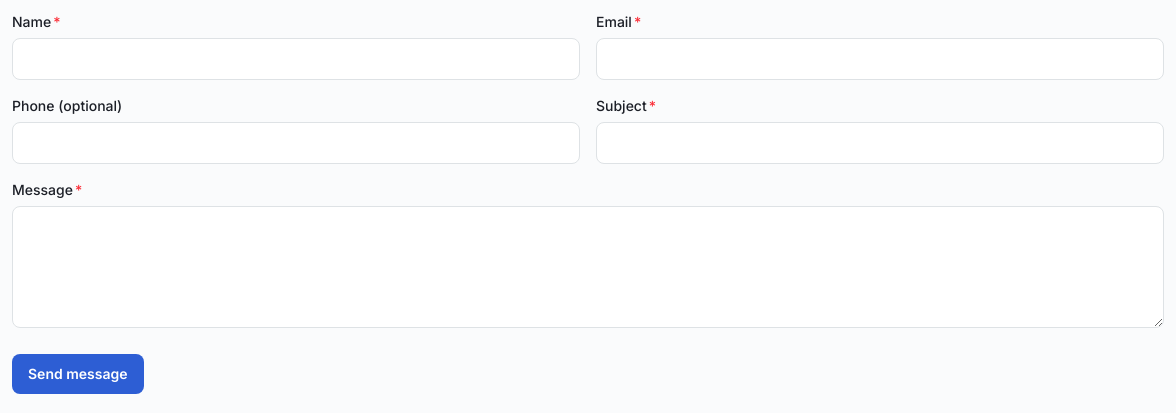
it: ContactForm › offers a direct email address when the server is unreachable
The width and height of the screenshot is (1176, 413).
In the field labelled "Name*": coordinates (296, 59) [12, 38, 580, 80], type "Jane Recruiter"
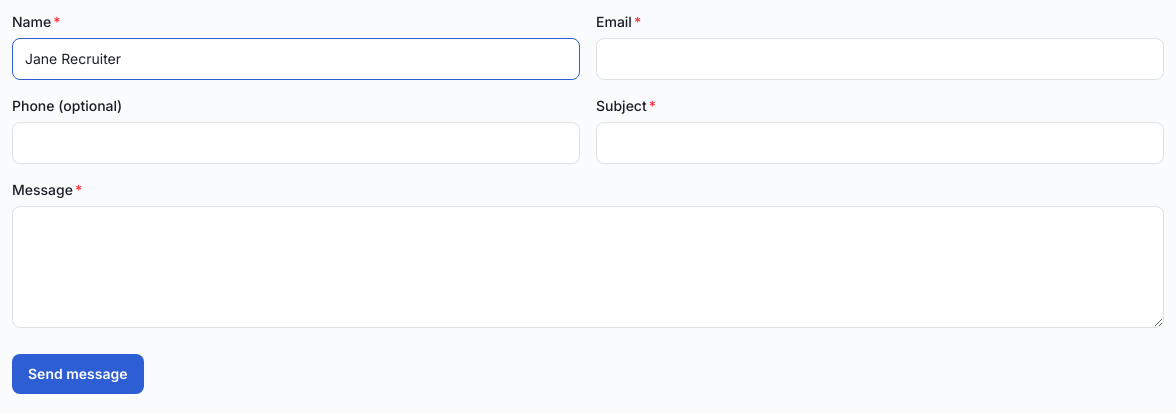
In the field labelled "Email*": coordinates (880, 59) [596, 38, 1164, 80], type "jane@example.com"
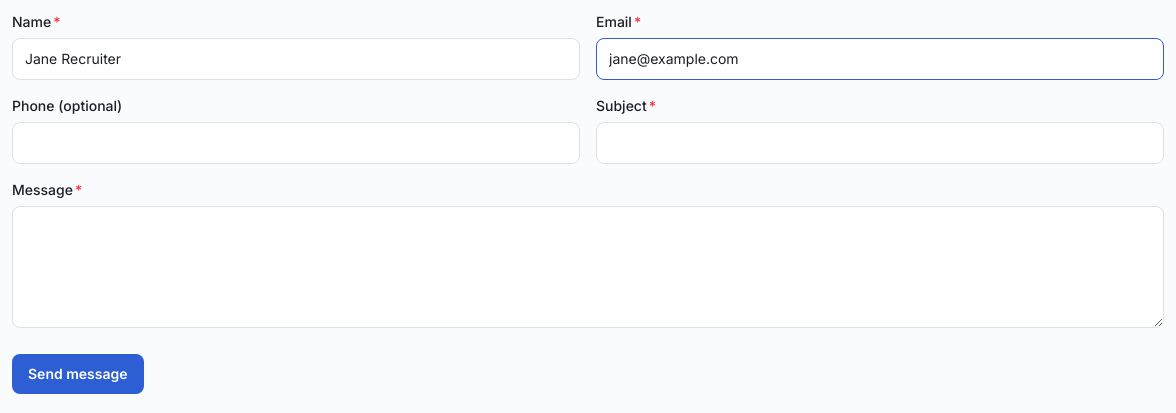
In the field labelled "Subject*": coordinates (880, 143) [596, 122, 1164, 164], type "Internship"
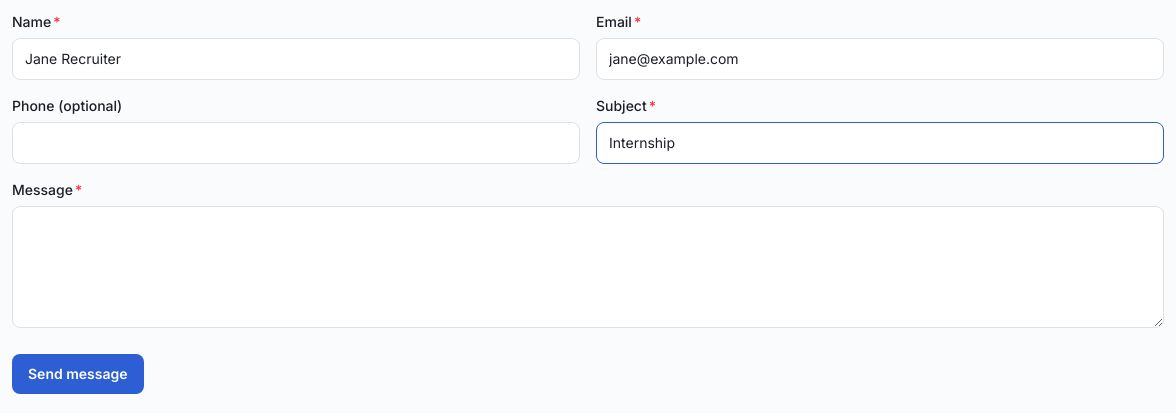
In the text box labelled "Message*": coordinates (588, 267) [12, 206, 1164, 328], type "Hello Bryan, I have an opportunity."
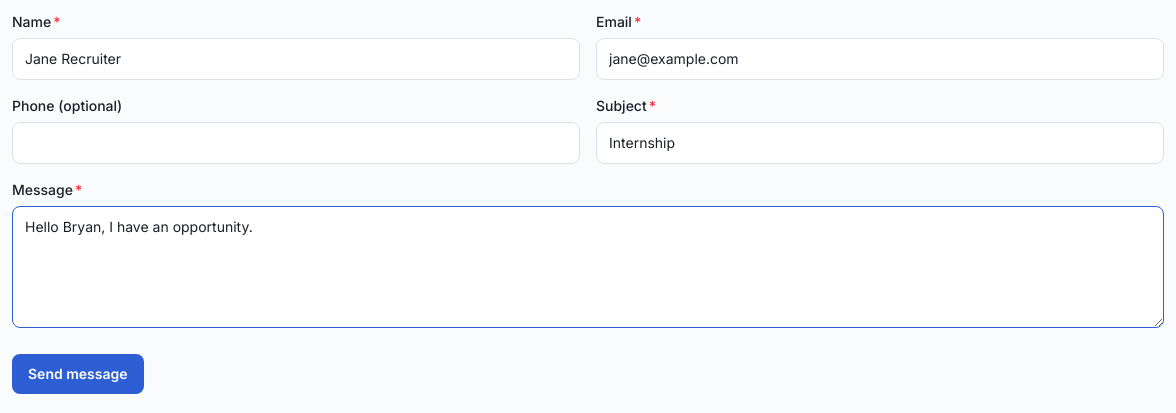
Click the button "Send message": coordinates (78, 374) [12, 354, 144, 394]
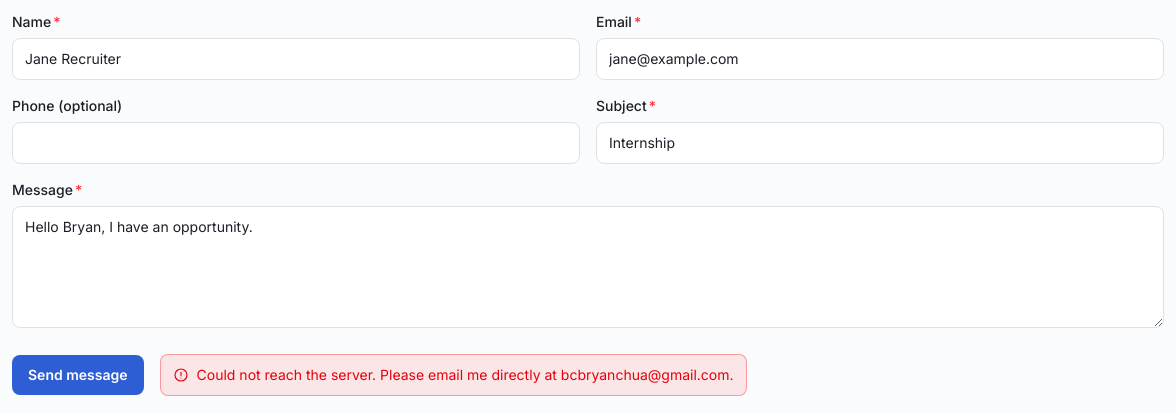
Check: the message shows "bcbryanchua@gmail.com", box [197, 366, 734, 383]
